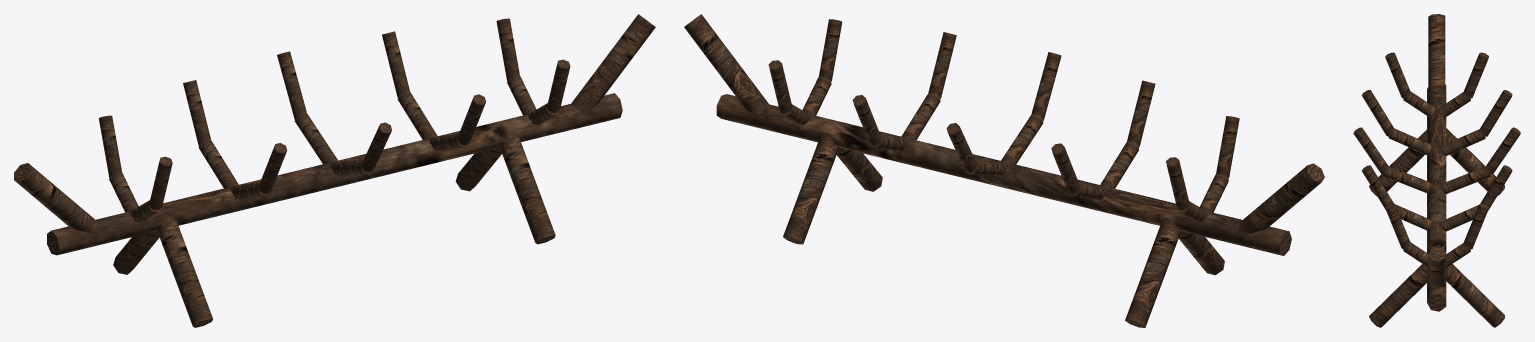
File: bronzeBoatFrame.glb
3 renders of one model, left to right at view 1: azimuth 30°, elevation 25°; view 2: azimuth 150°, elevation 25°; view 3: azimuth 270°, elevation 25°, orthographic. The views are drawn at different scales.
Visible parts, largest first — view 1: part_0; view 2: part_0; view 3: part_0.
Boxes of the visible parts, x1,y1,x2,y2 form: part_0: (14,14,655,327); part_0: (684,14,1324,327); part_0: (1353,14,1520,327).
Bounding box in the file's own units: 2.31 × 0.5954 × 0.6755.
1 material, 1 textured.
